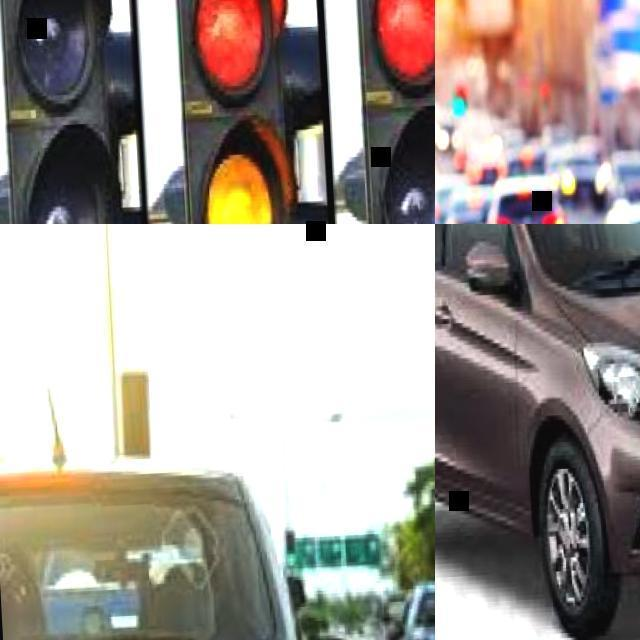car: (1, 0, 121, 222)
